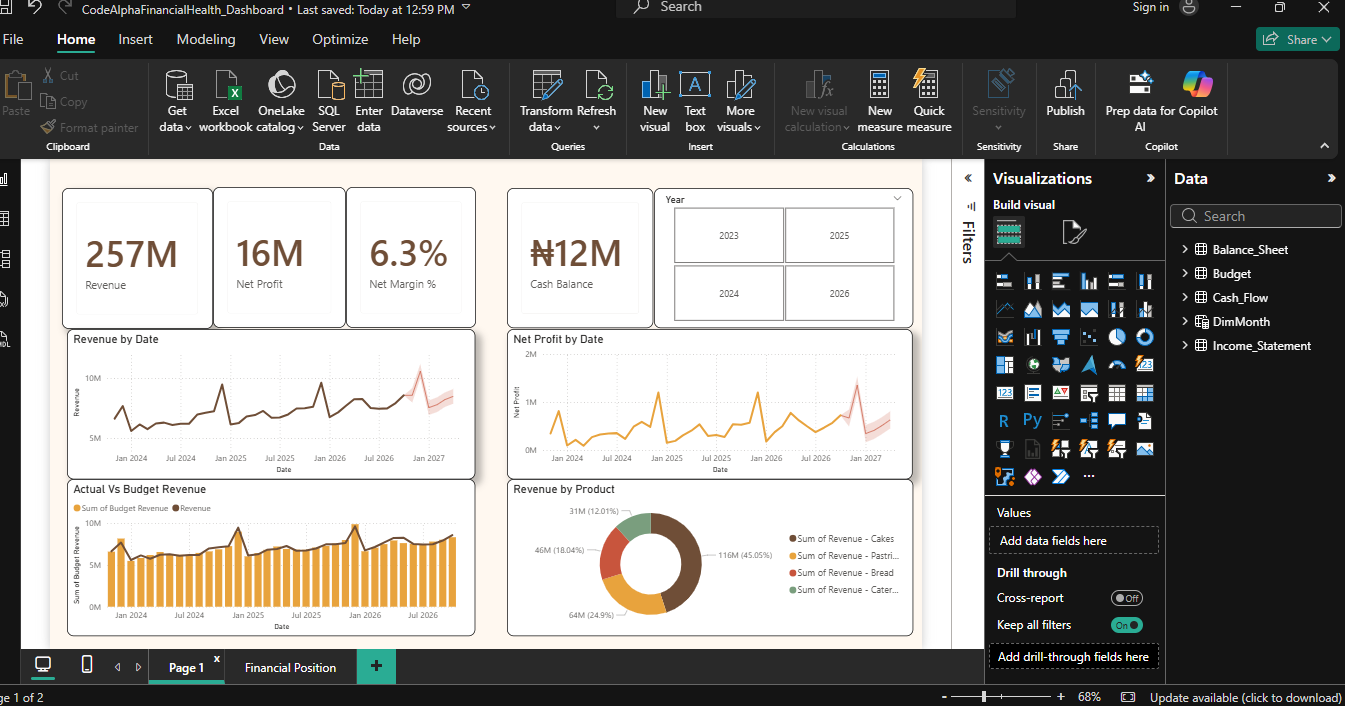

Layout of this report page (visuals, bound fields, positions):
{"tool":"powerbi","page":{"name":"Page 1","canvas":[1280,720],"ordinal":0},"visuals":[{"type":"cardVisual","fields":{"Data":["Income_Statement.Revenue"]},"box":[17.6,42.6,221.9,207.2],"z":0},{"type":"cardVisual","fields":{"Data":["Balance_Sheet.Net Profit"]},"box":[239.5,41.1,195.4,207.2],"z":1000},{"type":"cardVisual","fields":{"Data":["Balance_Sheet.Net Margin %"]},"box":[434.9,41.1,191,207.2],"z":2000},{"type":"cardVisual","fields":{"Data":["Balance_Sheet.Cash Balance"]},"box":[672.2,43.3,215.1,206.1],"z":3000},{"type":"lineChart","fields":{"Y":["Income_Statement.Revenue"],"Category":["DimMonth.Date"]},"box":[25.4,249.5,600.5,221.1],"z":4000},{"type":"lineChart","fields":{"Y":["Balance_Sheet.Net Profit"],"Category":["DimMonth.Date"]},"box":[672.2,249.5,596,221.1],"z":5000},{"type":"lineClusteredColumnComboChart","title":"Actual Vs Budget Revenue","fields":{"Category":["DimMonth.Date"],"Y":["Sum(Budget.Budget Revenue)"],"Y2":["Income_Statement.Revenue"]},"box":[25,470.2,599.5,230.7],"z":6000},{"type":"donutChart","title":"Revenue by Product","fields":{"Y":["Sum(Income_Statement.Revenue - Cakes)","Sum(Income_Statement.Revenue - Pastries)","Sum(Income_Statement.Revenue - Bread)","Sum(Income_Statement.Revenue - Catering)"]},"box":[671.5,470.2,596.6,230.7],"z":7000},{"type":"slicer","fields":{"Values":["DimMonth.Year"]},"box":[887,43,381,206],"z":8000}]}

Visuals, with their boxes on the page's 1280x720 design canvas (x1, y1, x2, y2). These are canvas units, not pixel positions in the 1345x706 screenshot, which may show the page scaled, cropped or inside an application window:
cardVisual - Income_Statement.Revenue: Rect(18, 43, 240, 250)
cardVisual - Balance_Sheet.Net Profit: Rect(240, 41, 435, 248)
cardVisual - Balance_Sheet.Net Margin %: Rect(435, 41, 626, 248)
cardVisual - Balance_Sheet.Cash Balance: Rect(672, 43, 887, 249)
lineChart - Income_Statement.Revenue x DimMonth.Date: Rect(25, 250, 626, 471)
lineChart - Balance_Sheet.Net Profit x DimMonth.Date: Rect(672, 250, 1268, 471)
"Actual Vs Budget Revenue" lineClusteredColumnComboChart: Rect(25, 470, 624, 701)
"Revenue by Product" donutChart: Rect(672, 470, 1268, 701)
slicer - DimMonth.Year: Rect(887, 43, 1268, 249)
